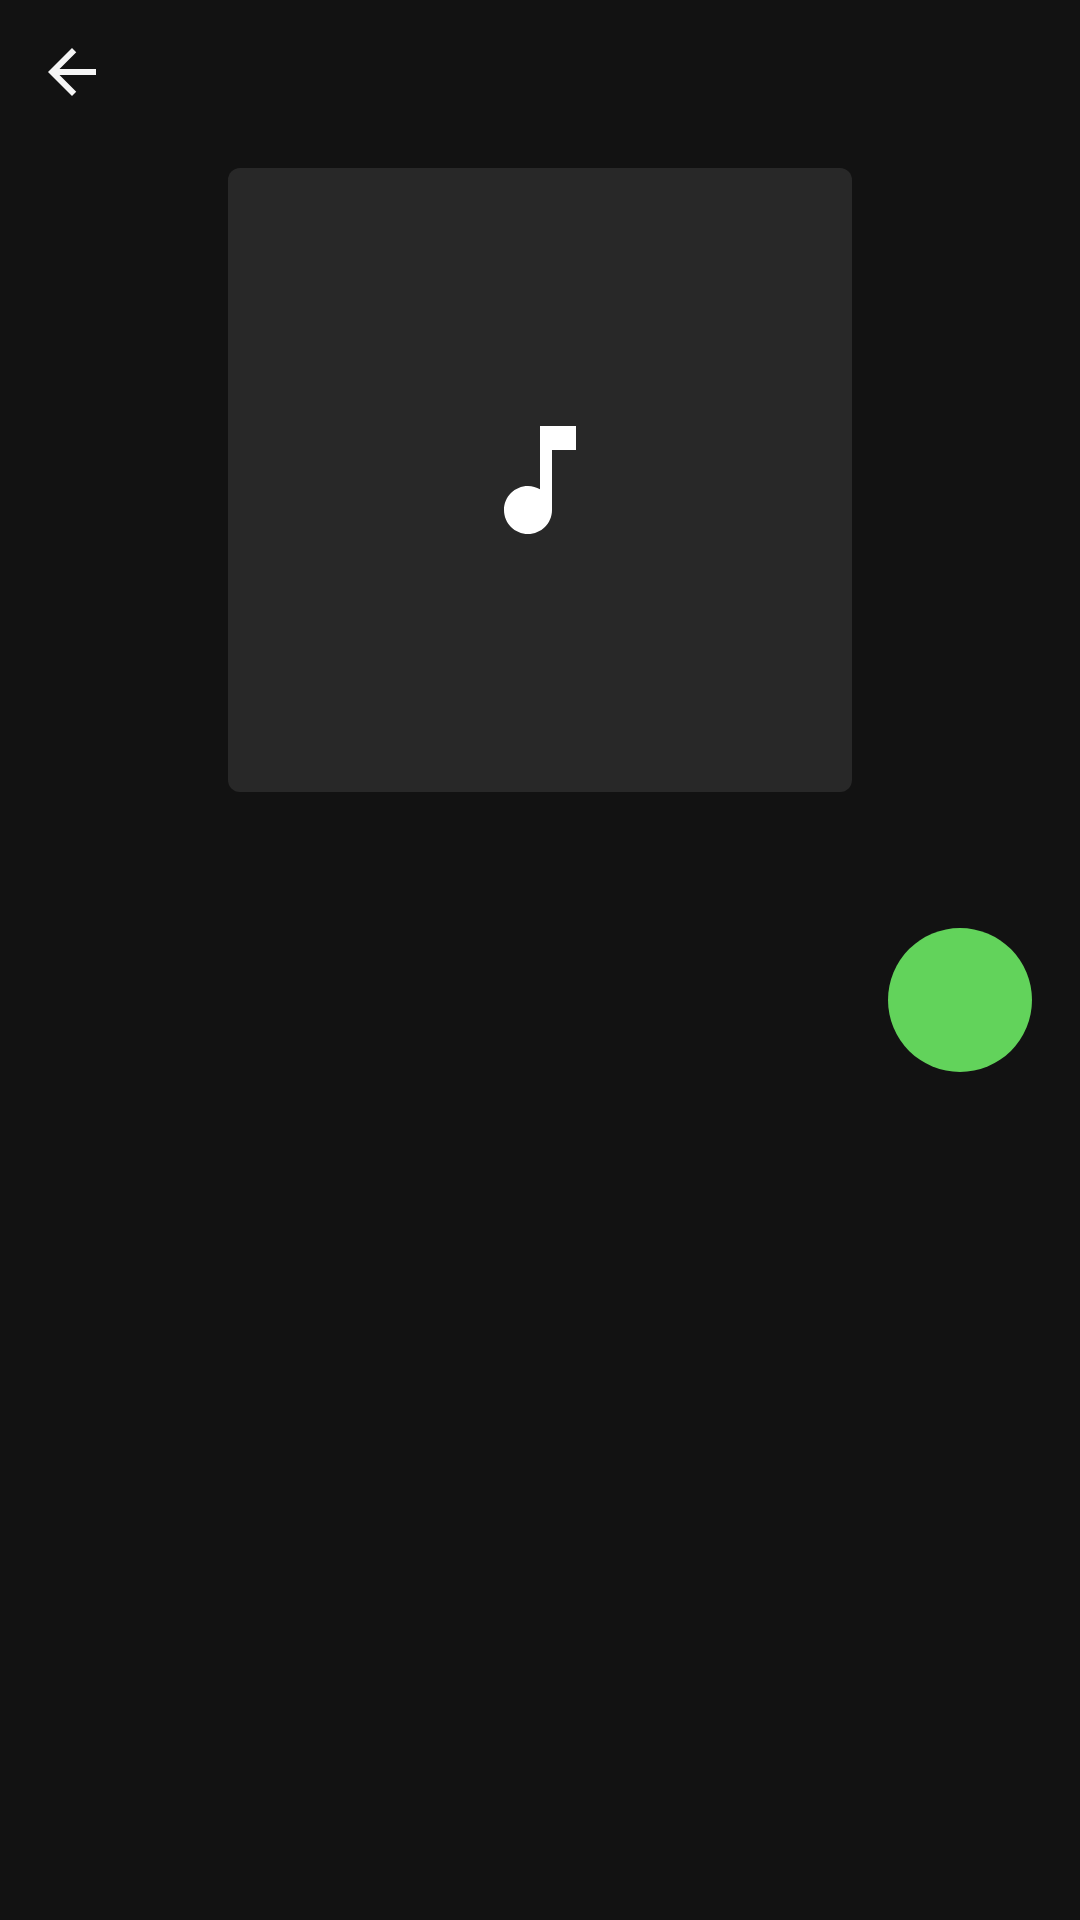

Where icons sit on this 1080x1920 app screen, as rect(x1, y1, x2, y2):
Back: rect(48, 48, 96, 96)
